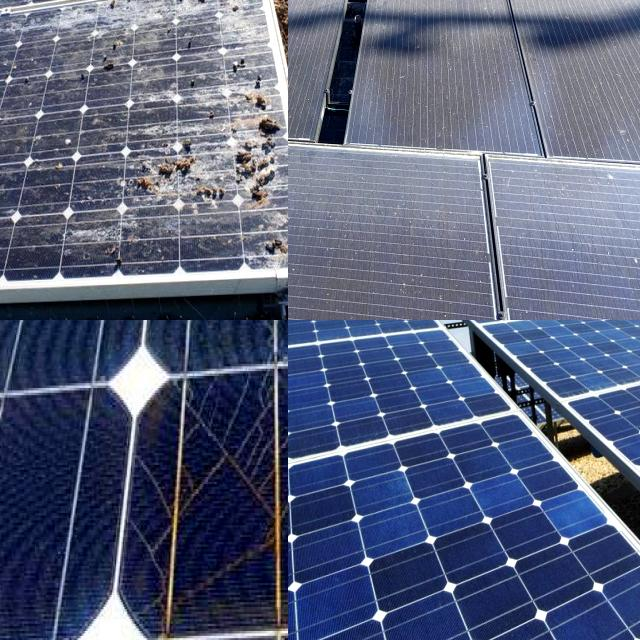bird: (128, 140, 227, 207), (226, 118, 282, 206), (167, 38, 220, 106), (70, 36, 138, 84), (66, 235, 140, 269), (109, 0, 193, 29), (237, 63, 271, 119), (66, 0, 120, 31), (255, 218, 288, 267), (0, 0, 55, 21), (150, 0, 217, 16), (204, 0, 243, 26), (0, 191, 25, 231), (202, 0, 239, 26), (141, 0, 200, 14), (220, 0, 265, 18), (0, 98, 22, 131), (0, 0, 19, 24)
crack: (288, 465, 609, 640), (288, 329, 513, 489), (478, 320, 640, 426)
dust: (288, 144, 465, 320), (505, 170, 640, 320), (376, 0, 508, 131), (526, 0, 640, 144), (288, 0, 351, 106), (288, 0, 332, 112)
shadow: (137, 417, 288, 640)
